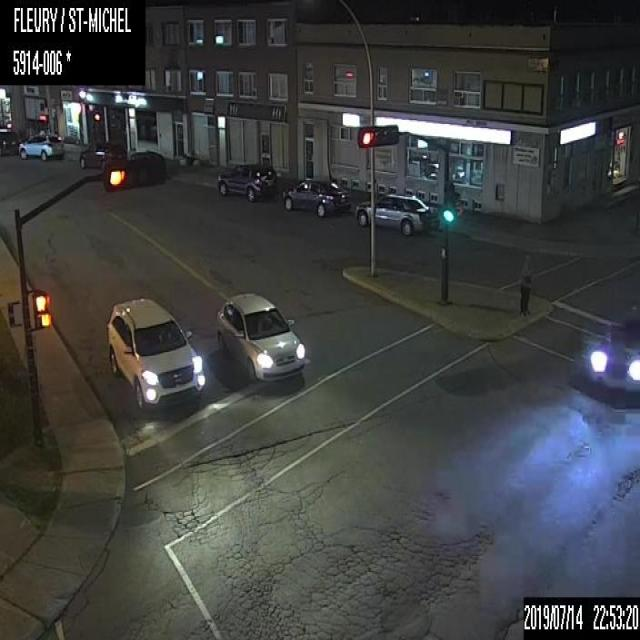pedestrian: (518, 252, 532, 316)
vehicle: (106, 296, 206, 408), (215, 291, 305, 382), (587, 309, 639, 393), (356, 191, 439, 236), (282, 178, 350, 216), (217, 163, 277, 201), (78, 140, 126, 168), (18, 132, 65, 160), (0, 130, 17, 157)
